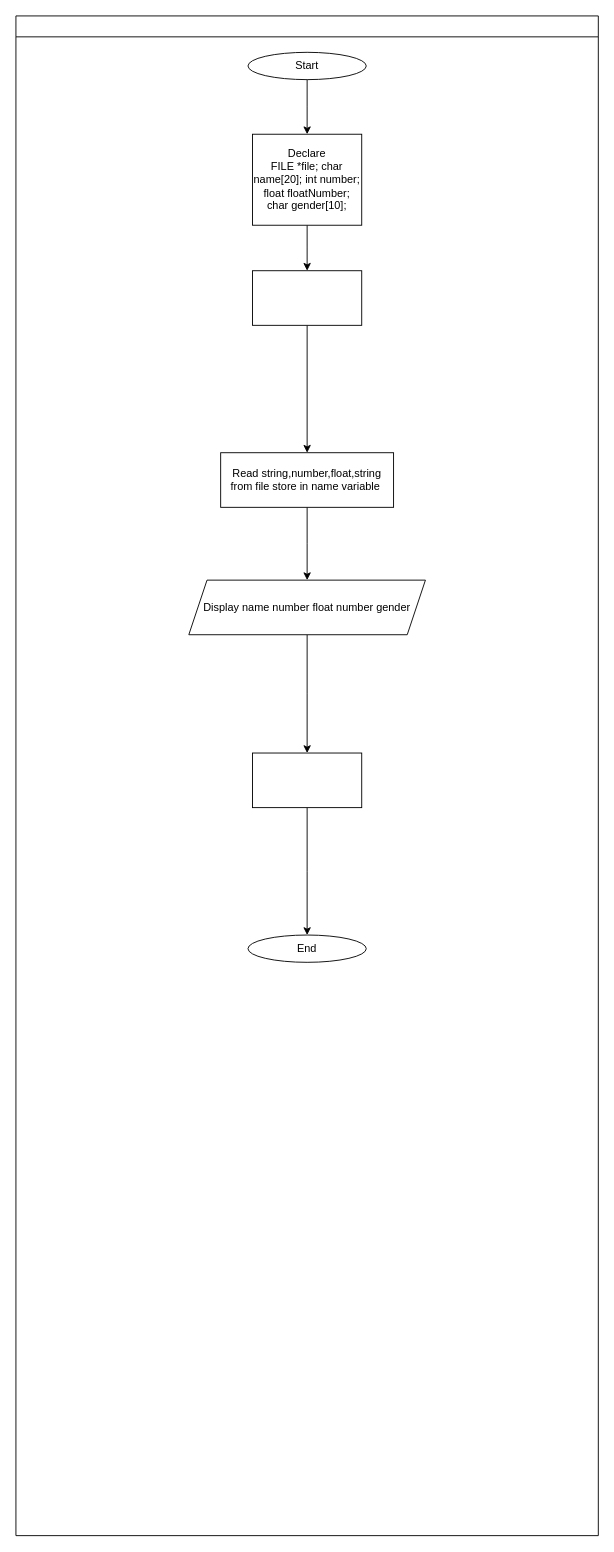
The diagram is 614 pixels wide and 1552 high, and some of its shapes have lost their labels. Each missing label, with the centre of its shape:
"Close file" goes at point (307, 780).
"Open file a15-3.txt in read mode" goes at point (307, 297).
